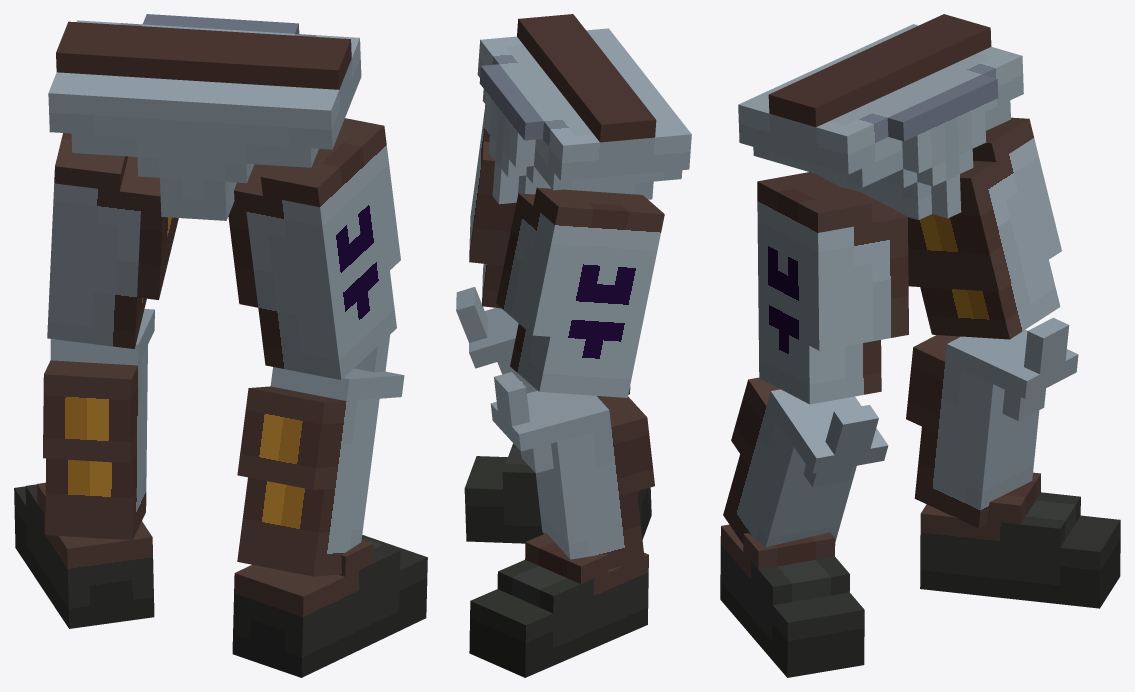
The model's file is 6620d171-1afc-415e-9a4d-e00a40bf5b94.gltf.
3 renders of one model, left to right at view 1: azimuth 30°, elevation 25°; view 2: azimuth 150°, elevation 25°; view 3: azimuth 270°, elevation 25°, orthographic. The views are drawn at different scales.
Visible parts, largest first — view 1: Equip_Hip-Local, Equip_Right_Thigh-Local, Equip_Right_Leg-Local, Equip_Left_Thigh-Local, Equip_Left_Leg-Local, Equip_Right_Foot-Local, Equip_Left_Foot-Local; view 2: Equip_Hip-Local, Equip_Left_Thigh-Local, Equip_Left_Leg-Local, Equip_Left_Foot-Local, Equip_Right_Foot-Local, Equip_Right_Thigh-Local, Equip_Right_Leg-Local; view 3: Equip_Hip-Local, Equip_Right_Thigh-Local, Equip_Left_Thigh-Local, Equip_Left_Leg-Local, Equip_Left_Foot-Local, Equip_Right_Leg-Local, Equip_Right_Foot-Local.
Boxes of the visible parts, <box> form: Equip_Hip-Local: <box>48,14,361,220</box>; Equip_Right_Thigh-Local: <box>228,118,400,379</box>; Equip_Right_Leg-Local: <box>237,335,404,576</box>; Equip_Left_Thigh-Local: <box>47,133,178,348</box>; Equip_Left_Leg-Local: <box>43,309,154,540</box>; Equip_Right_Foot-Local: <box>232,535,427,677</box>; Equip_Left_Foot-Local: <box>14,482,154,628</box>; Equip_Hip-Local: <box>477,14,691,204</box>; Equip_Left_Thigh-Local: <box>496,187,664,397</box>; Equip_Left_Leg-Local: <box>490,372,654,569</box>; Equip_Left_Foot-Local: <box>469,533,648,677</box>; Equip_Right_Foot-Local: <box>464,443,651,543</box>; Equip_Right_Thigh-Local: <box>469,112,516,308</box>; Equip_Right_Leg-Local: <box>456,287,630,394</box>; Equip_Hip-Local: <box>738,14,1023,219</box>; Equip_Right_Thigh-Local: <box>757,172,908,404</box>; Equip_Left_Thigh-Local: <box>908,117,1061,339</box>; Equip_Left_Leg-Local: <box>906,317,1078,528</box>; Equip_Left_Foot-Local: <box>920,472,1120,608</box>; Equip_Right_Leg-Local: <box>723,377,888,546</box>; Equip_Right_Foot-Local: <box>720,524,864,677</box>.
Bounding box in the file's own units: 16.27 × 29.24 × 19.42.
7 materials, 7 textured.
